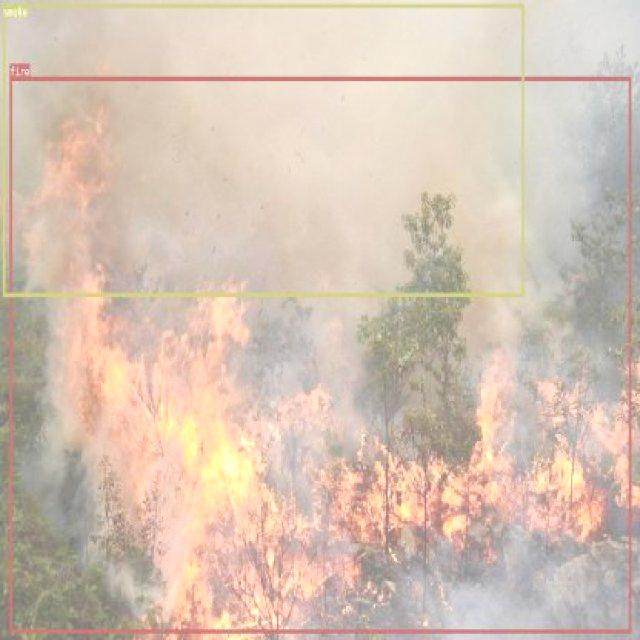fire: (9, 76, 631, 633)
smoke: (2, 3, 524, 296)
